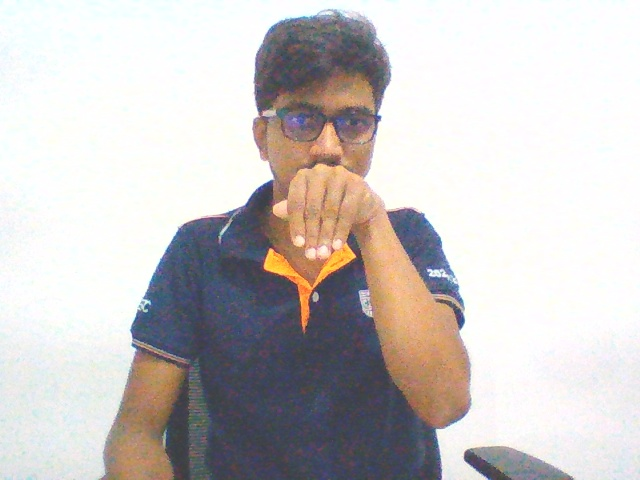Squirrel: (261, 156, 386, 265)
